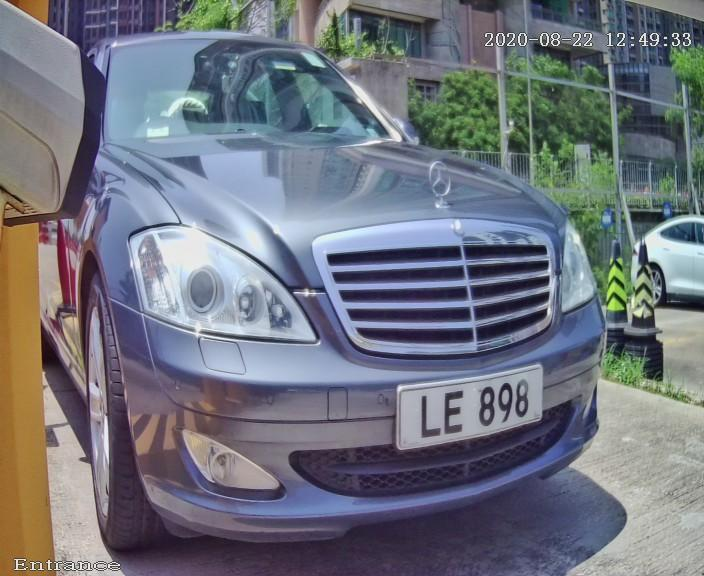Car: (26, 1, 651, 576)
License Plate: (371, 345, 565, 466)
